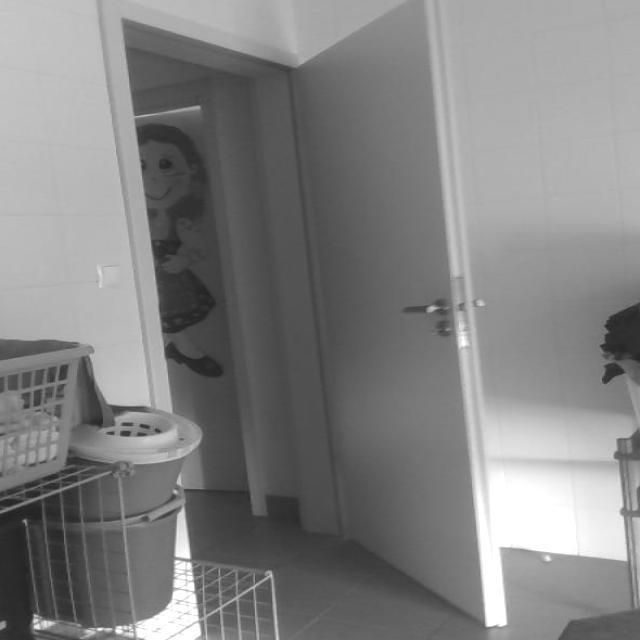door: (286, 0, 508, 627)
